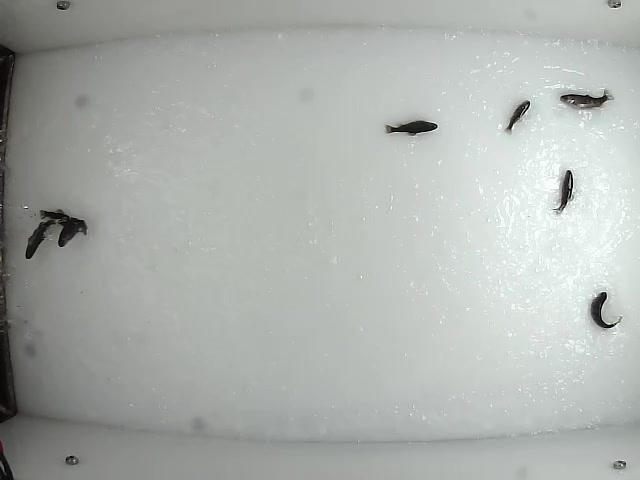fish: (23, 216, 57, 259), (587, 289, 622, 330), (557, 87, 613, 110), (502, 96, 531, 137), (550, 169, 576, 214), (383, 117, 438, 138), (57, 216, 92, 246), (38, 206, 79, 229)
